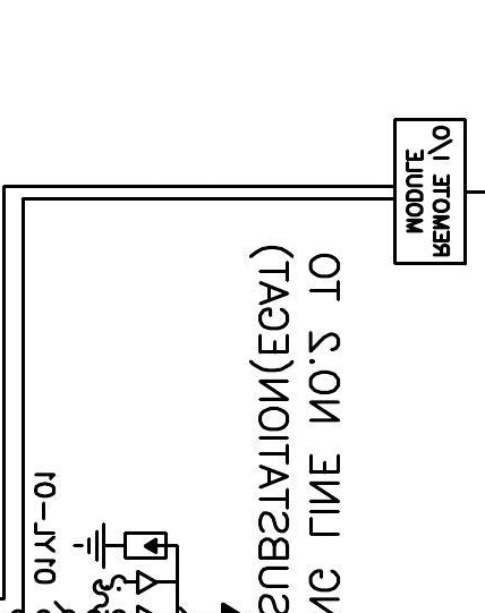115_la: (71, 521, 168, 570)
remote_io_module: (393, 117, 467, 266)
